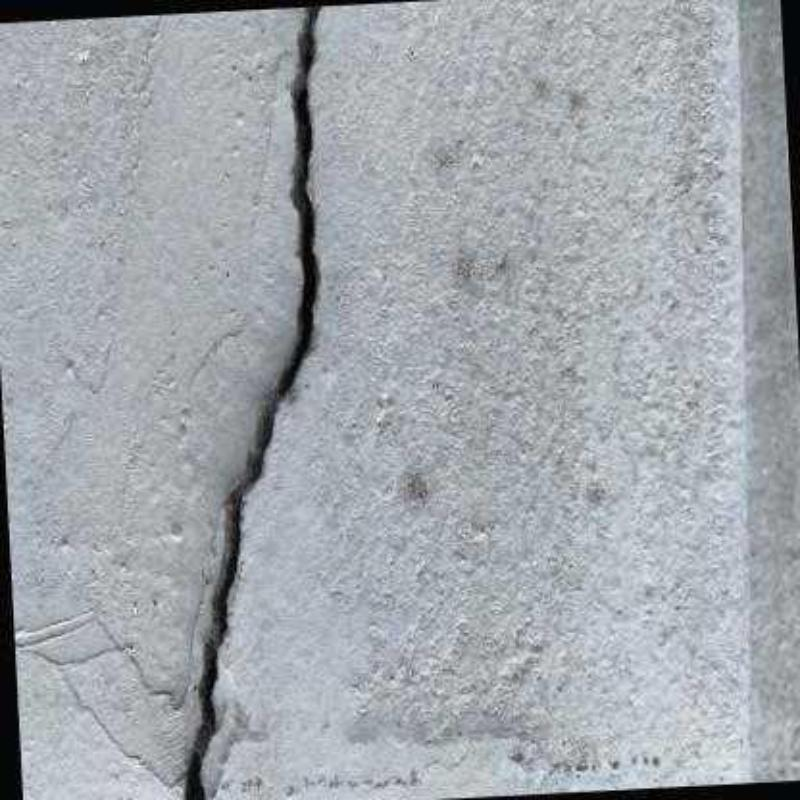crack: (179, 6, 321, 800)
